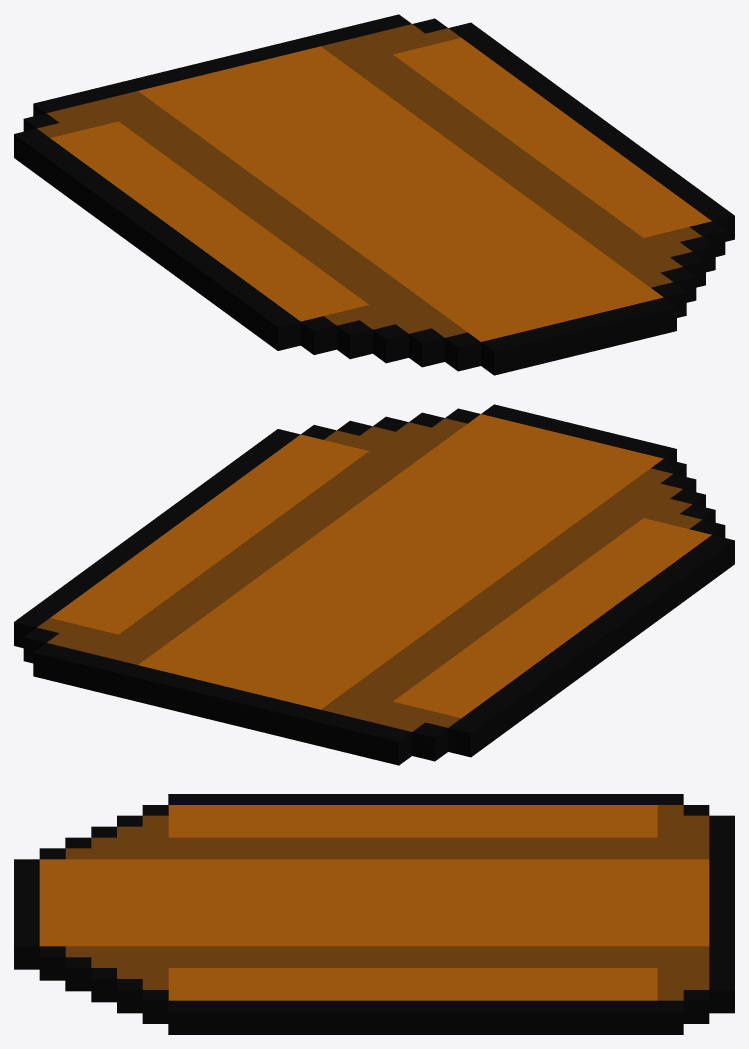
File: shield.gltf
The picture shows the model from 3 angles, top to bottom: view 1: azimuth 30°, elevation 25°; view 2: azimuth 150°, elevation 25°; view 3: azimuth 270°, elevation 25°; orthographic projection. The views are drawn at different scales.
Parts seen in each view (by area): view 1: Layer.1; view 2: Layer.1; view 3: Layer.1.
Boxes of the visible parts, x1=… form: Layer.1: x1=14, y1=14, x2=734, y2=375; Layer.1: x1=14, y1=404, x2=734, y2=765; Layer.1: x1=14, y1=794, x2=734, y2=1034.
Bounding box in the file's own units: 20 × 1 × 28.
Materials: 1 (1 with a texture image).
